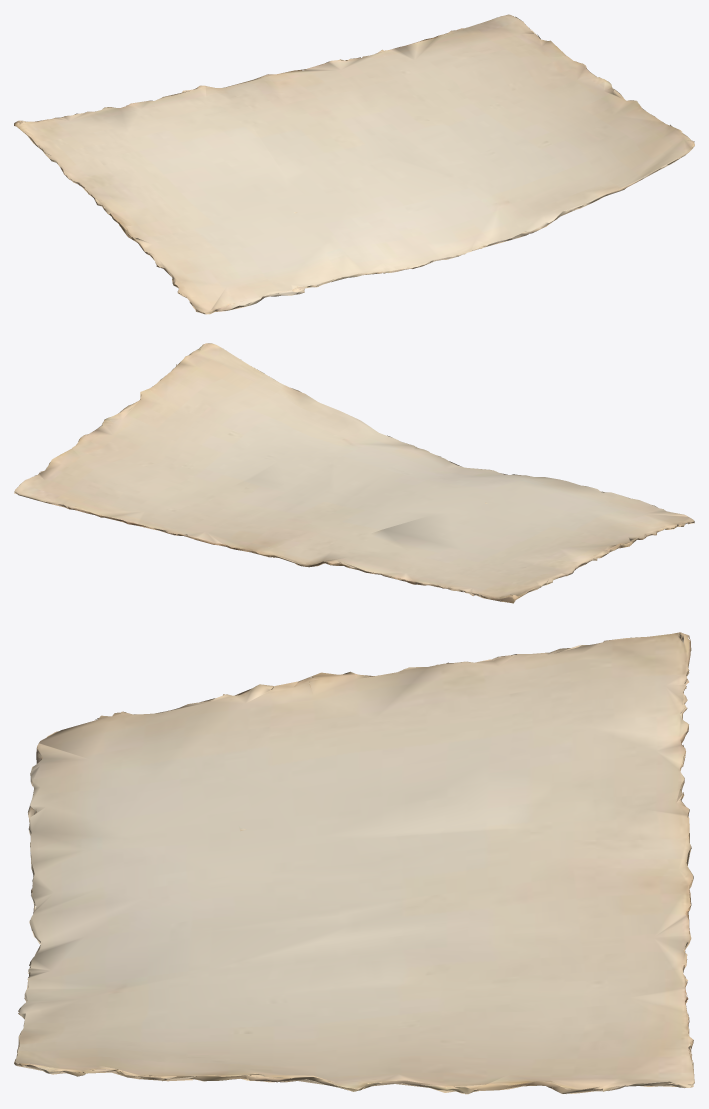
The model's file is int-paper-surface-flat.glb.
3 renders of one model, top to bottom at view 1: azimuth 30°, elevation 25°; view 2: azimuth 150°, elevation 25°; view 3: azimuth 270°, elevation 25°, orthographic. The views are drawn at different scales.
Visible parts, largest first — view 1: Mesh_0; view 2: Mesh_0; view 3: Mesh_0.
Part boxes in pixels (x1,y1,x2,y2): Mesh_0: (14, 14, 694, 314); Mesh_0: (14, 343, 694, 603); Mesh_0: (14, 632, 694, 1094).
Size of the model in its own units: 1.9 by 0.234 by 1.26.
Materials: 1 (1 with a texture image).
